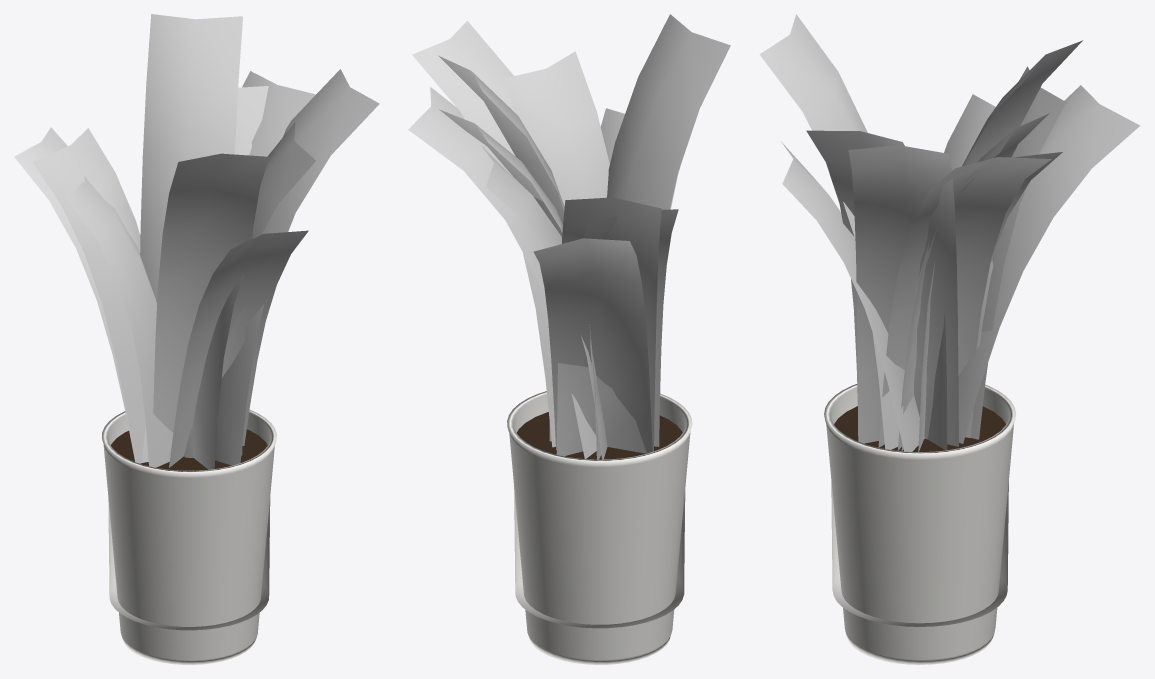
The model's file is plant_snake.glb.
3 renders of one model, left to right at view 1: azimuth 30°, elevation 25°; view 2: azimuth 150°, elevation 25°; view 3: azimuth 270°, elevation 25°, orthographic. The views are drawn at different scales.
Visible parts, largest first — view 1: plant_snake__leaf, plant_snake__ceramic_white, plant_snake__soil__noshadow; view 2: plant_snake__leaf, plant_snake__ceramic_white, plant_snake__soil__noshadow; view 3: plant_snake__leaf, plant_snake__ceramic_white, plant_snake__soil__noshadow.
Boxes of the visible parts, bbox=[...] form: plant_snake__leaf: bbox=[14, 14, 379, 469]; plant_snake__ceramic_white: bbox=[102, 410, 276, 664]; plant_snake__soil__noshadow: bbox=[111, 429, 267, 470]; plant_snake__leaf: bbox=[408, 14, 730, 459]; plant_snake__ceramic_white: bbox=[507, 391, 692, 664]; plant_snake__soil__noshadow: bbox=[517, 412, 682, 459]; plant_snake__leaf: bbox=[759, 14, 1140, 451]; plant_snake__ceramic_white: bbox=[824, 384, 1016, 664]; plant_snake__soil__noshadow: bbox=[834, 406, 1005, 451].
Bounding box in the file's own units: 0.5118 × 1.01 × 0.5661.
